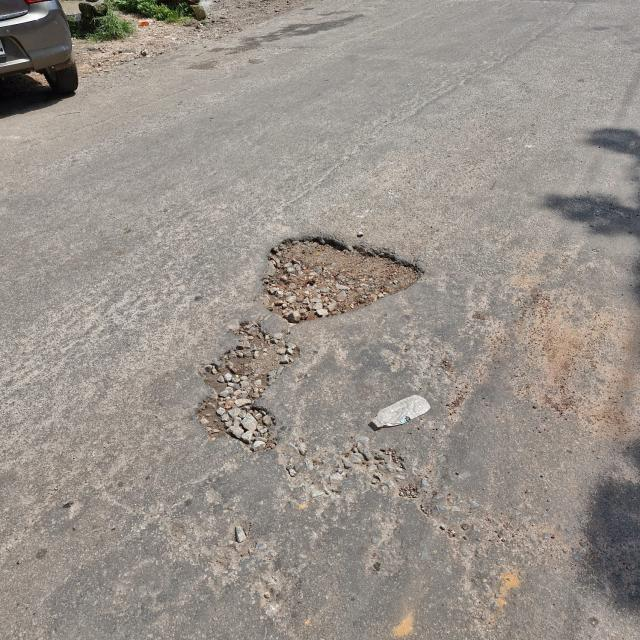pothole: (258, 227, 432, 321), (196, 324, 301, 449), (449, 508, 567, 600), (305, 431, 457, 498), (203, 518, 292, 620), (370, 396, 429, 430), (390, 609, 430, 638)
